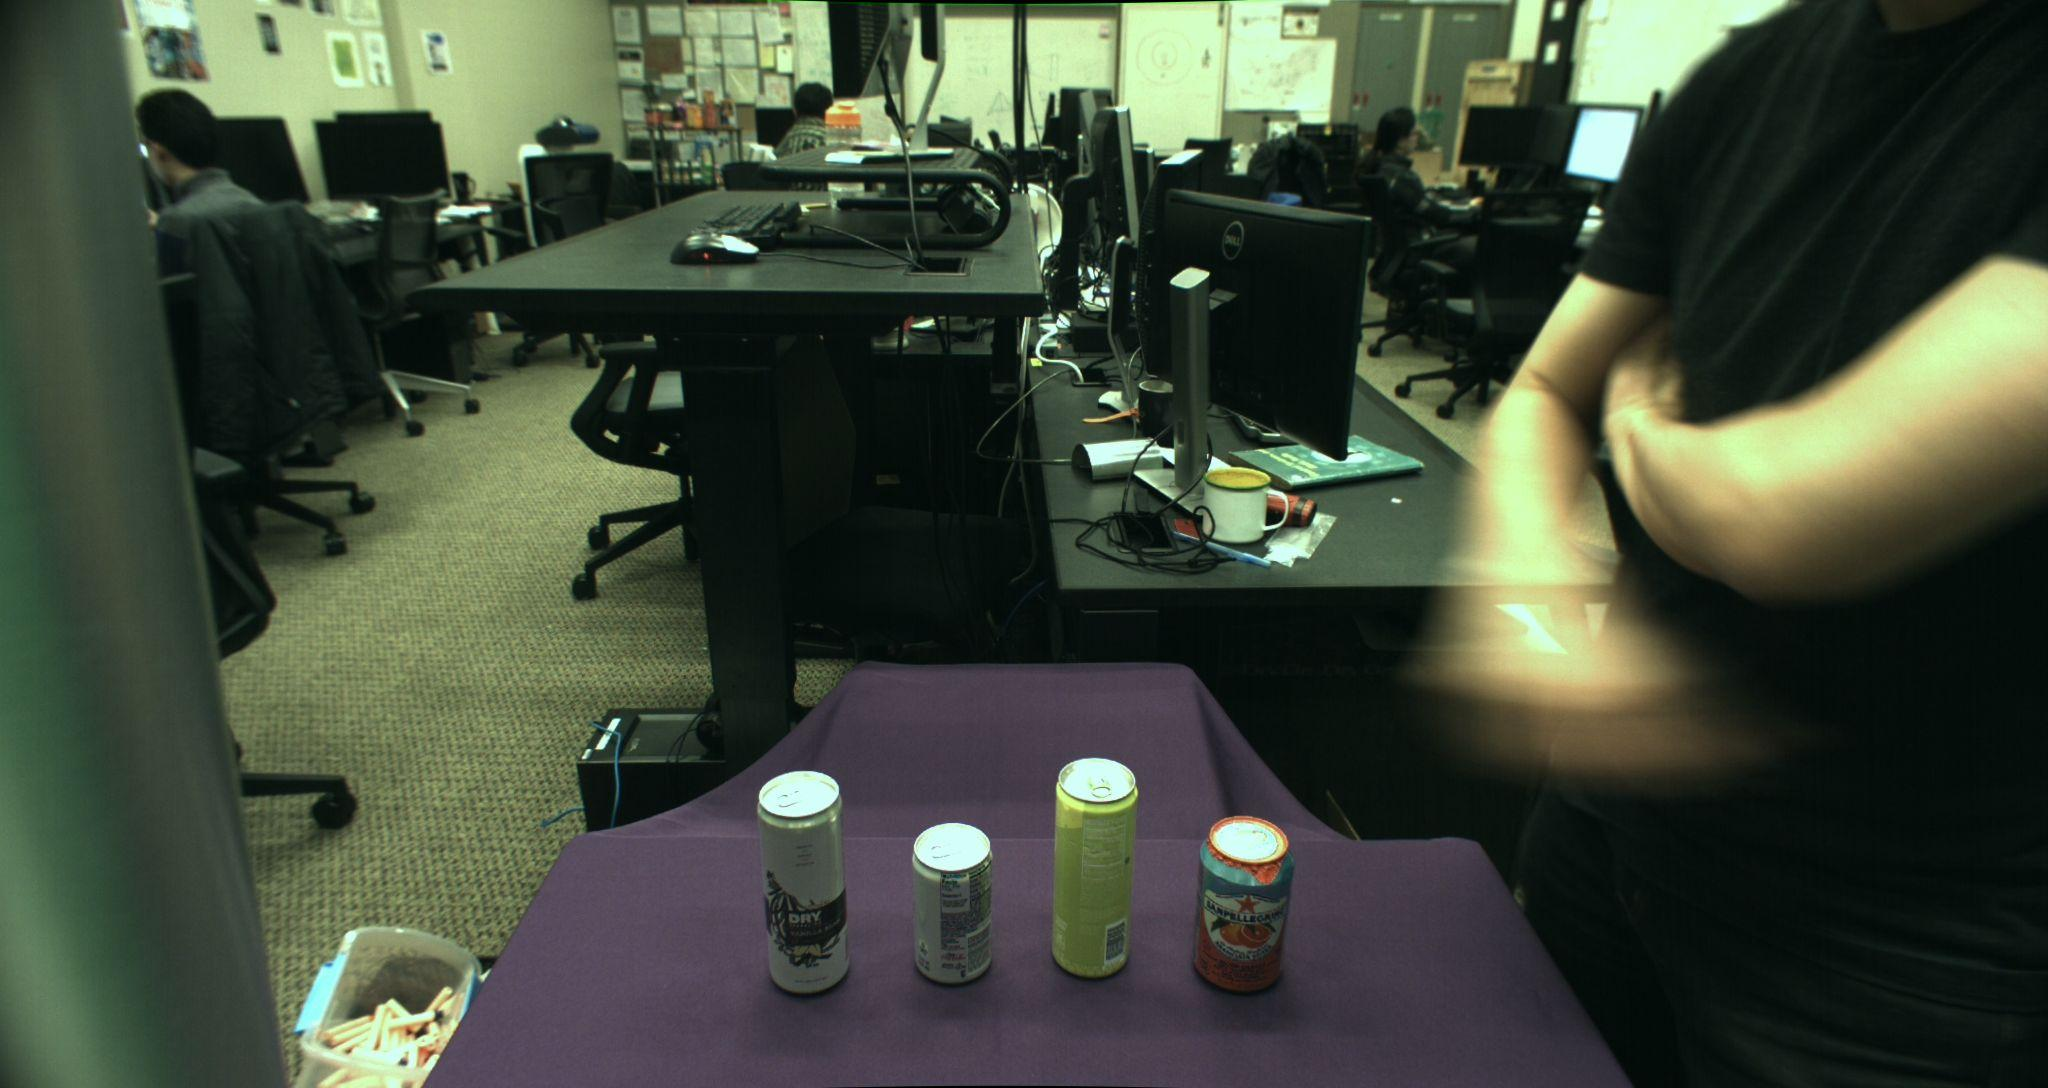can_diet_coke_small: (912, 821, 994, 988)
can_dry_sparkling_vanilla_bean: (756, 770, 851, 996)
can_izze_fusions_lemon_lime: (1050, 757, 1138, 978)
can_sanpellegrino_blood_orange: (1191, 816, 1294, 995)
